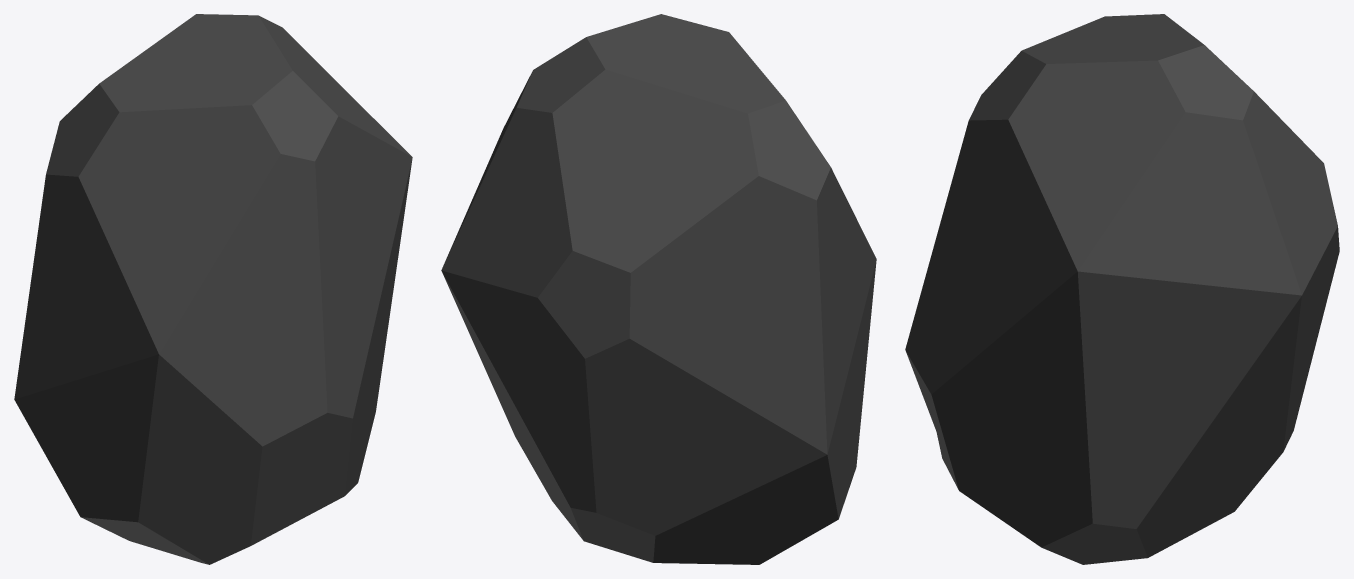
The model's file is rock_2a.fbx.
3 renders of one model, left to right at view 1: azimuth 30°, elevation 25°; view 2: azimuth 150°, elevation 25°; view 3: azimuth 270°, elevation 25°, orthographic. The views are drawn at different scales.
Visible parts, largest first — view 1: rock_2a; view 2: rock_2a; view 3: rock_2a.
Boxes of the visible parts, box(x1,y1,x2,y2) form: rock_2a: box(14, 14, 412, 564); rock_2a: box(441, 14, 876, 564); rock_2a: box(905, 14, 1339, 564).
Size of the model in its own units: 321 by 422 by 324.
